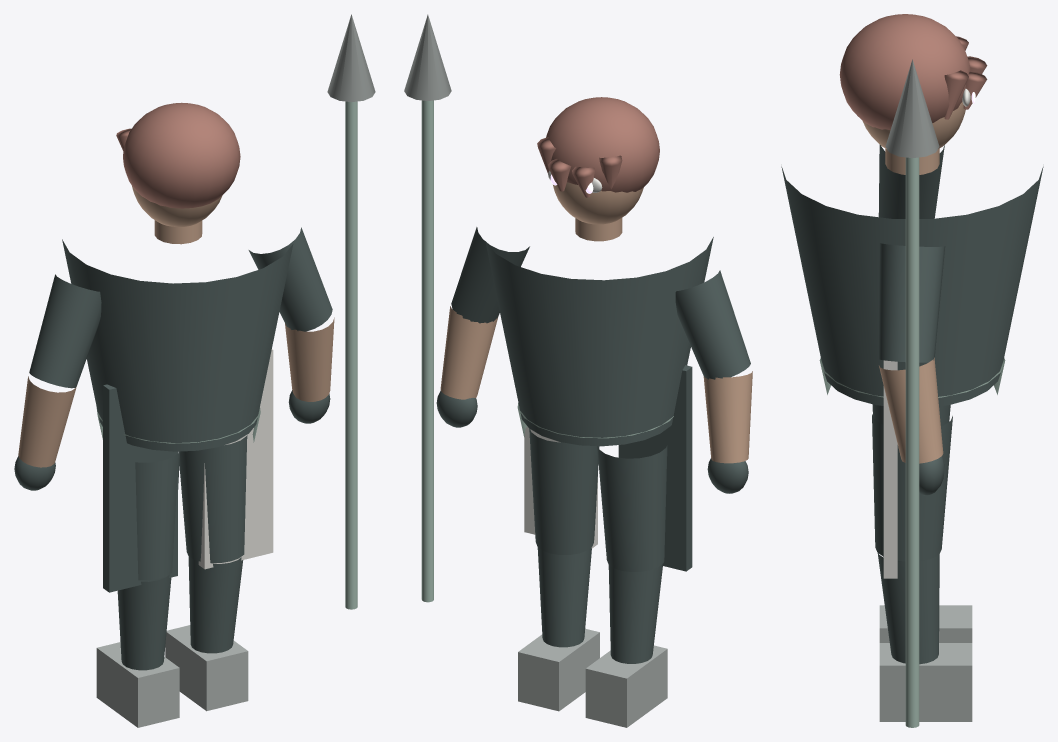
File: kain-procedural-v1.glb
The picture shows the model from 3 angles, left to right: view 1: azimuth 30°, elevation 25°; view 2: azimuth 150°, elevation 25°; view 3: azimuth 270°, elevation 25°; orthographic projection. The views are drawn at different scales.
Visible parts, largest first — view 1: Outfit_Torso, Hair_Cap, Outfit_CoatTail_L, Body_Thigh_R, Weapon_SpearShaft, Body_UpperArm_L, Outfit_CoatTail_R, Outfit_Boot_L, Body_Thigh_L, Outfit_Boot_R, Body_Shin_R, Body_Shin_L (+8 smaller); view 2: Outfit_Torso, Hair_Cap, Body_Thigh_L, Body_Thigh_R, Weapon_SpearShaft, Outfit_CoatTail_L, Body_UpperArm_L, Outfit_Boot_L, Outfit_Boot_R, Body_Shin_R, Body_Shin_L, Body_Forearm_L (+8 smaller); view 3: Outfit_Torso, Hair_Cap, Weapon_SpearShaft, Outfit_Boot_R, Body_UpperArm_R, Body_Thigh_R, Body_Shin_R, Body_Forearm_R, Weapon_SpearHead, Outfit_CoatTail_R, Body_UpperArm_L, Outfit_Boot_L (+5 smaller).
Boxes of the visible parts, x1,y1,x2,y2 form: Outfit_Torso: (62, 239, 293, 451); Hair_Cap: (123, 102, 240, 208); Outfit_CoatTail_L: (103, 384, 177, 592); Body_Thigh_R: (178, 435, 247, 563); Weapon_SpearShaft: (345, 101, 357, 609); Body_UpperArm_L: (29, 274, 101, 388); Outfit_CoatTail_R: (198, 349, 273, 569); Outfit_Boot_L: (96, 642, 179, 727); Body_Thigh_L: (135, 451, 180, 580); Outfit_Boot_R: (165, 625, 248, 711); Body_Shin_R: (188, 556, 243, 653); Body_Shin_L: (117, 574, 171, 670); Outfit_Torso: (485, 237, 713, 446); Hair_Cap: (546, 97, 659, 192); Body_Thigh_L: (597, 445, 667, 571); Body_Thigh_R: (529, 428, 599, 554); Weapon_SpearShaft: (421, 100, 433, 602); Outfit_CoatTail_L: (618, 365, 692, 571); Body_UpperArm_L: (675, 270, 750, 379); Outfit_Boot_L: (585, 645, 667, 727); Outfit_Boot_R: (518, 628, 599, 711); Body_Shin_R: (537, 547, 591, 647); Body_Shin_L: (608, 564, 662, 663); Body_Forearm_L: (703, 371, 752, 463); Outfit_Torso: (781, 166, 1043, 406); Hair_Cap: (839, 14, 970, 129); Weapon_SpearShaft: (905, 157, 919, 727); Outfit_Boot_R: (879, 643, 972, 721); Body_UpperArm_R: (878, 243, 945, 362); Body_Thigh_R: (872, 414, 952, 561); Body_Shin_R: (877, 553, 939, 664); Body_Forearm_R: (879, 357, 943, 463); Weapon_SpearHead: (885, 59, 939, 158); Outfit_CoatTail_R: (883, 360, 897, 578); Body_UpperArm_L: (878, 144, 944, 218); Outfit_Boot_L: (879, 605, 972, 642).
Bounding box in the file's own units: 1.15 × 2.03 × 0.6647.
